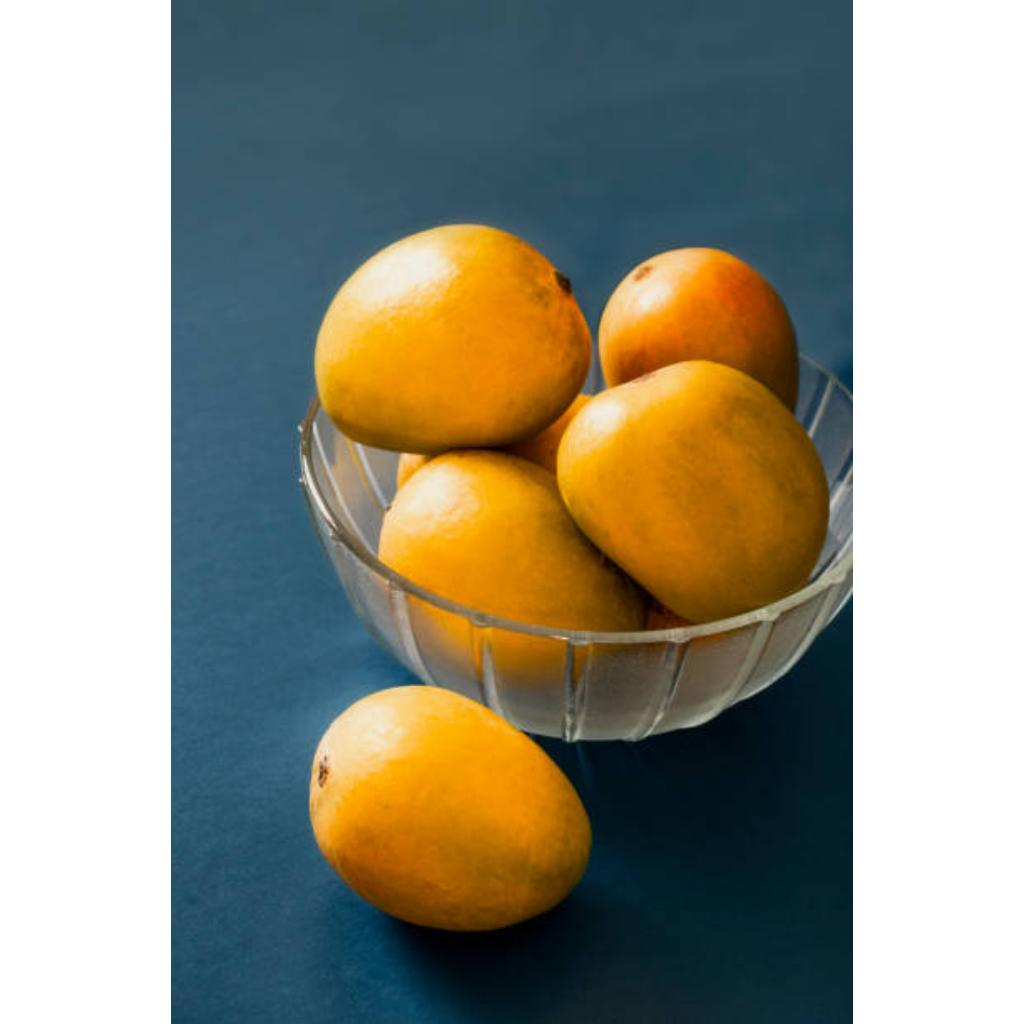mango: (557, 360, 829, 621), (311, 686, 591, 930), (315, 226, 591, 455), (379, 450, 645, 631), (599, 248, 797, 409)
